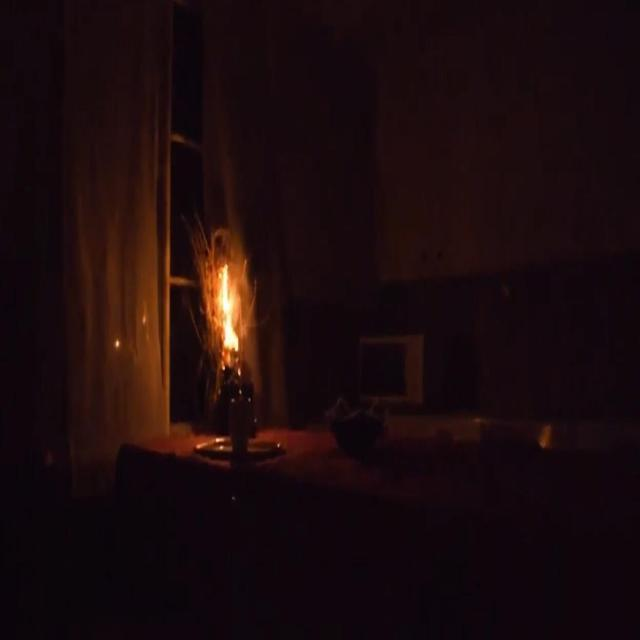smoke: (214, 253, 246, 362)
